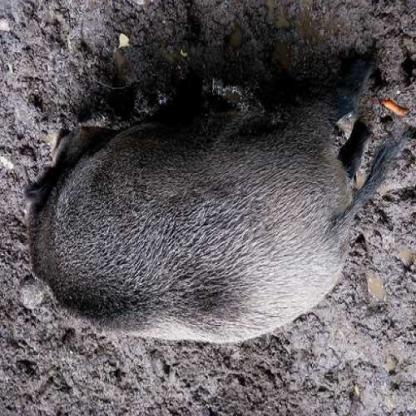boar: (9, 80, 389, 375)
